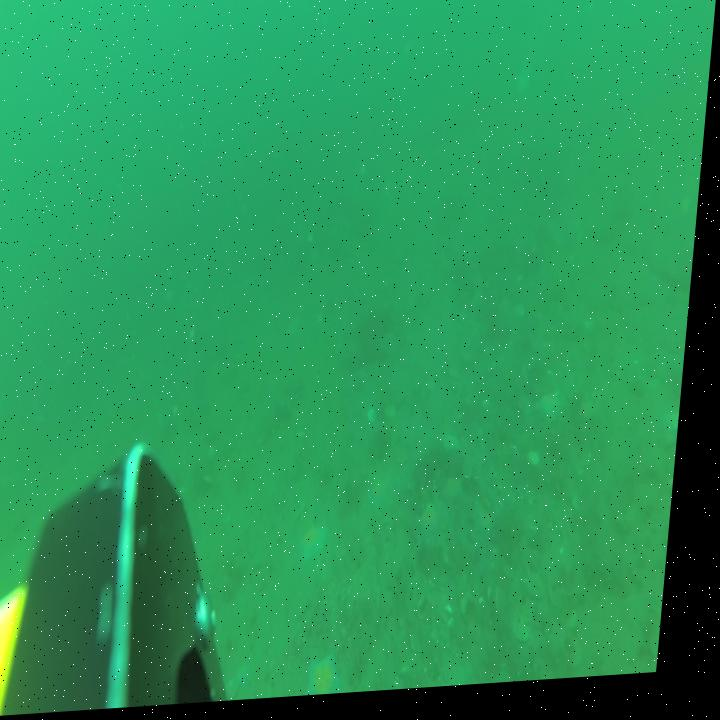holothurian: (589, 561, 647, 616)
scallop: (521, 627, 545, 654)
starfish: (316, 652, 357, 701), (307, 527, 340, 570), (541, 393, 572, 434), (424, 505, 455, 543)
